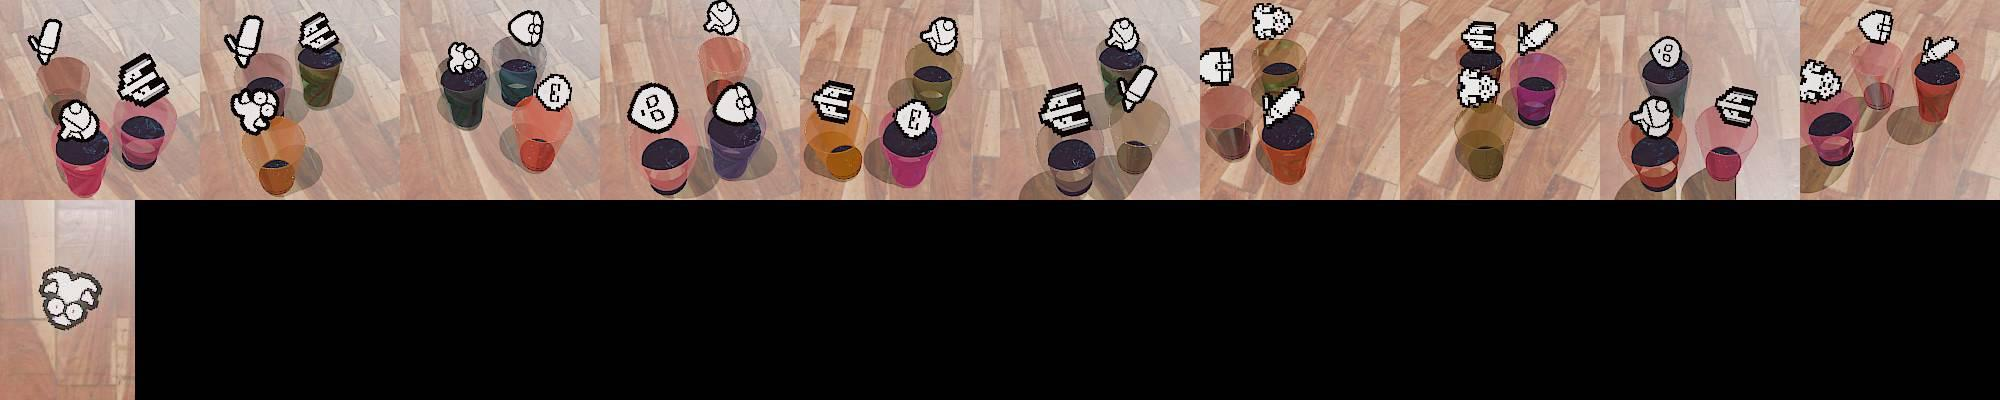icon: (37, 266, 102, 331), (626, 82, 681, 135), (1038, 84, 1092, 138), (230, 82, 282, 135), (116, 54, 168, 107), (223, 15, 265, 71), (811, 78, 856, 126), (712, 82, 759, 126), (55, 98, 101, 143), (1797, 57, 1843, 102), (1120, 65, 1159, 115), (1713, 84, 1758, 127), (1630, 94, 1675, 138), (1457, 66, 1503, 108), (297, 11, 338, 55), (28, 18, 62, 68), (1250, 3, 1293, 41), (894, 99, 934, 140), (1263, 85, 1305, 124), (1517, 18, 1560, 55), (920, 15, 958, 55), (536, 71, 573, 112), (508, 9, 545, 48), (1200, 46, 1236, 85), (1462, 19, 1500, 55), (1857, 9, 1893, 45), (704, 1, 740, 37), (1920, 34, 1959, 66), (445, 41, 481, 75), (1105, 17, 1139, 51), (1649, 36, 1684, 70)
